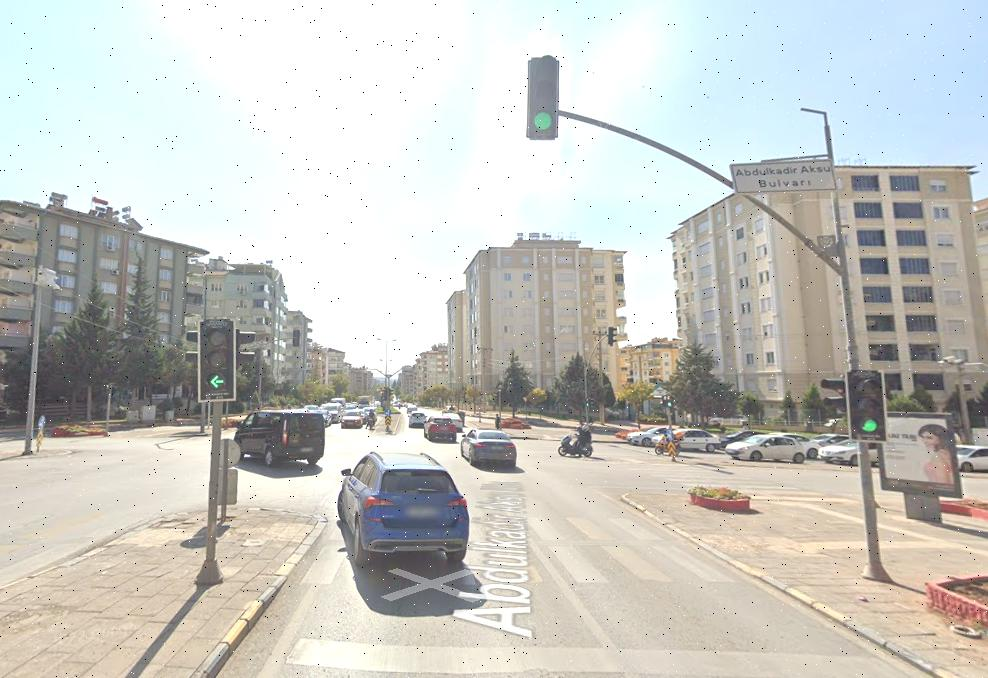greenlight: (523, 57, 563, 143), (198, 318, 233, 399), (846, 370, 885, 441)
